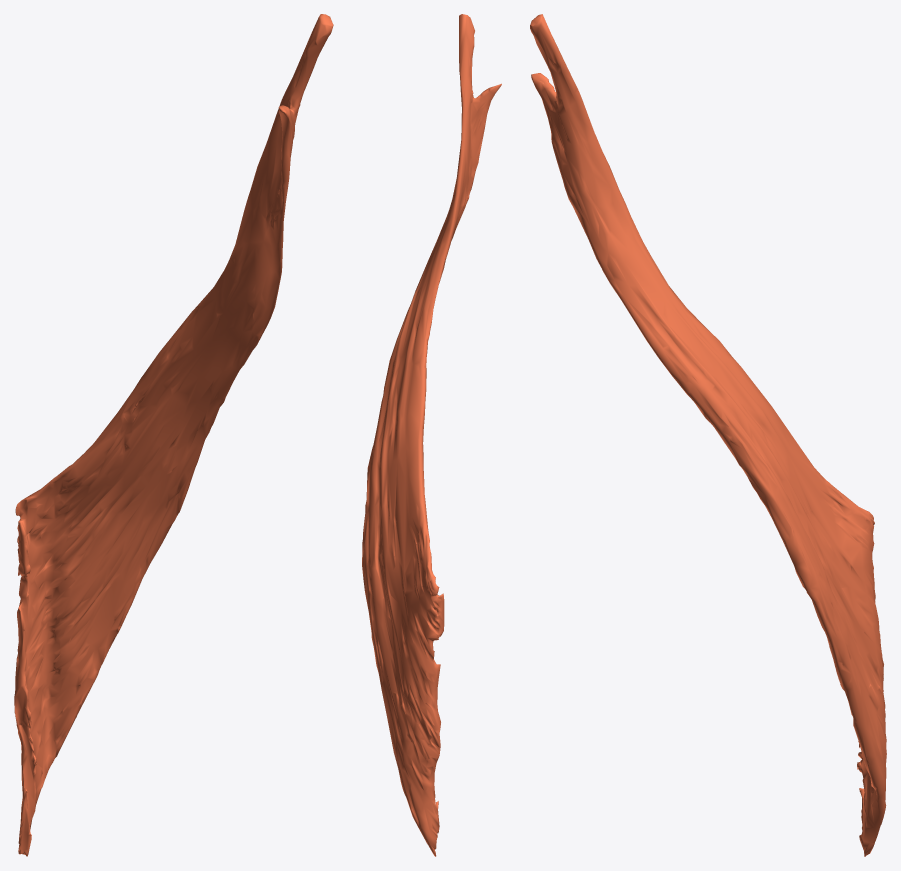
File: Splenius_colli_left.glb
3 views of the same model, side by side, from view 1: azimuth 30°, elevation 25°; view 2: azimuth 150°, elevation 25°; view 3: azimuth 270°, elevation 25° (orthographic). The views are drawn at different scales.
Visible parts, largest first — view 1: Splenius_colli_muscle.l_Generated_Mesh_From_X3D.202; view 2: Splenius_colli_muscle.l_Generated_Mesh_From_X3D.202; view 3: Splenius_colli_muscle.l_Generated_Mesh_From_X3D.202.
Part boxes in pixels (box(x1,y1,x2,y2)): Splenius_colli_muscle.l_Generated_Mesh_From_X3D.202: box(14, 14, 333, 856); Splenius_colli_muscle.l_Generated_Mesh_From_X3D.202: box(362, 14, 501, 856); Splenius_colli_muscle.l_Generated_Mesh_From_X3D.202: box(530, 14, 886, 856).
Bounding box in the file's own units: 0.0437 × 0.2577 × 0.0923.
